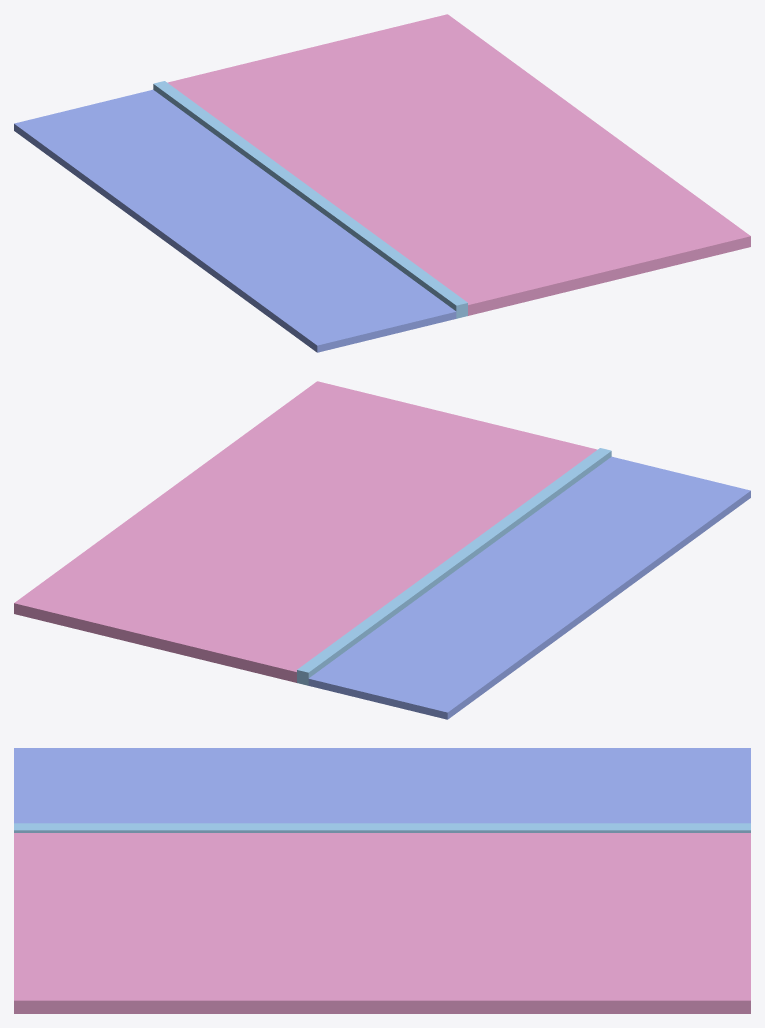
The model's file is ground.fbx.
The picture shows the model from 3 angles, top to bottom: view 1: azimuth 30°, elevation 25°; view 2: azimuth 150°, elevation 25°; view 3: azimuth 270°, elevation 25°; orthographic projection. The views are drawn at different scales.
Visible parts, largest first — view 1: Plane.001; view 2: Plane.001; view 3: Plane.001.
Boxes of the visible parts, box(x1,y1,x2,y2) form: Plane.001: box(14, 14, 750, 352); Plane.001: box(14, 381, 750, 719); Plane.001: box(14, 748, 750, 1013).
Bounding box in the file's own units: 1180 × 34.19 × 1430.
1 material, 1 textured.
